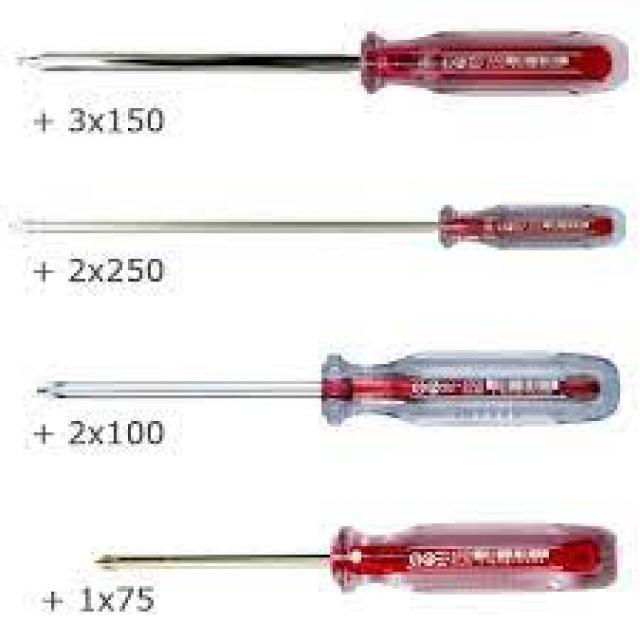screwdriver: (31, 347, 623, 427), (7, 26, 630, 100), (93, 519, 622, 596), (1, 200, 630, 249)
